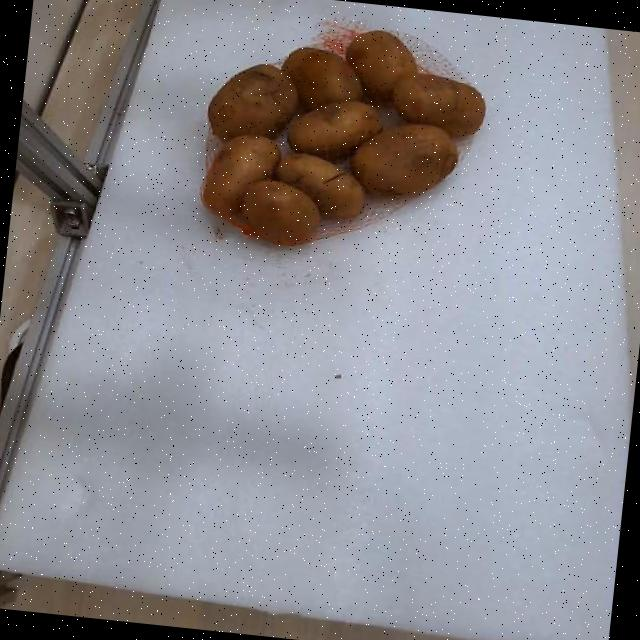potato: (349, 123, 455, 195), (208, 64, 298, 140), (203, 135, 278, 220), (274, 154, 362, 218), (287, 101, 380, 160), (240, 179, 319, 246), (280, 48, 362, 110), (345, 30, 415, 98), (391, 73, 455, 126), (442, 82, 482, 138)
